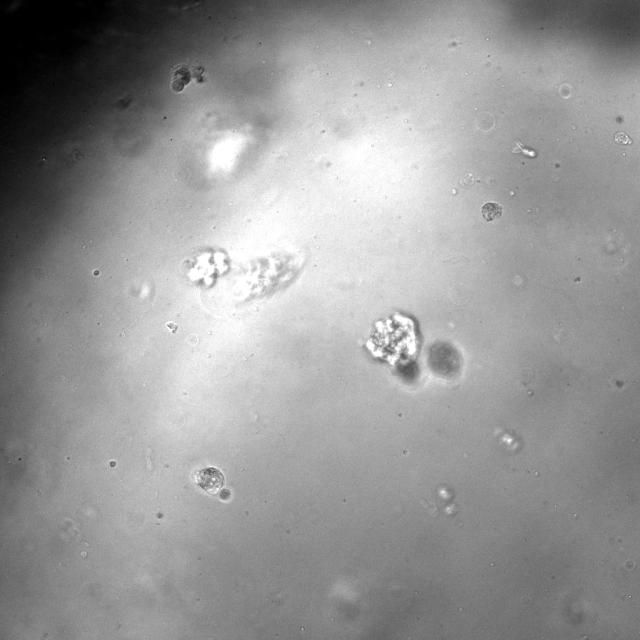organoid: (181, 246, 304, 301), (364, 311, 422, 385), (192, 467, 232, 502), (428, 341, 461, 378), (171, 65, 204, 92), (482, 202, 502, 220), (613, 131, 632, 145)
